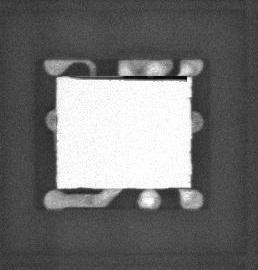DIE_BROKEN: (96, 74, 190, 82)
